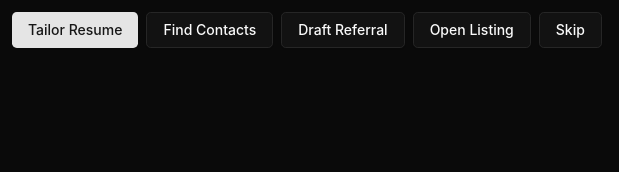
Test case: JobActionList › shows an error message when skipping fails
Click the button "Skip".
click(570, 30)  # box [539, 12, 602, 48]
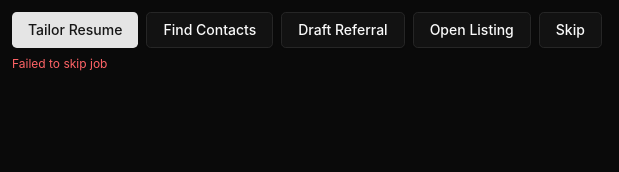
Check: the message reads "Failed to skip job", box [12, 56, 107, 71]
